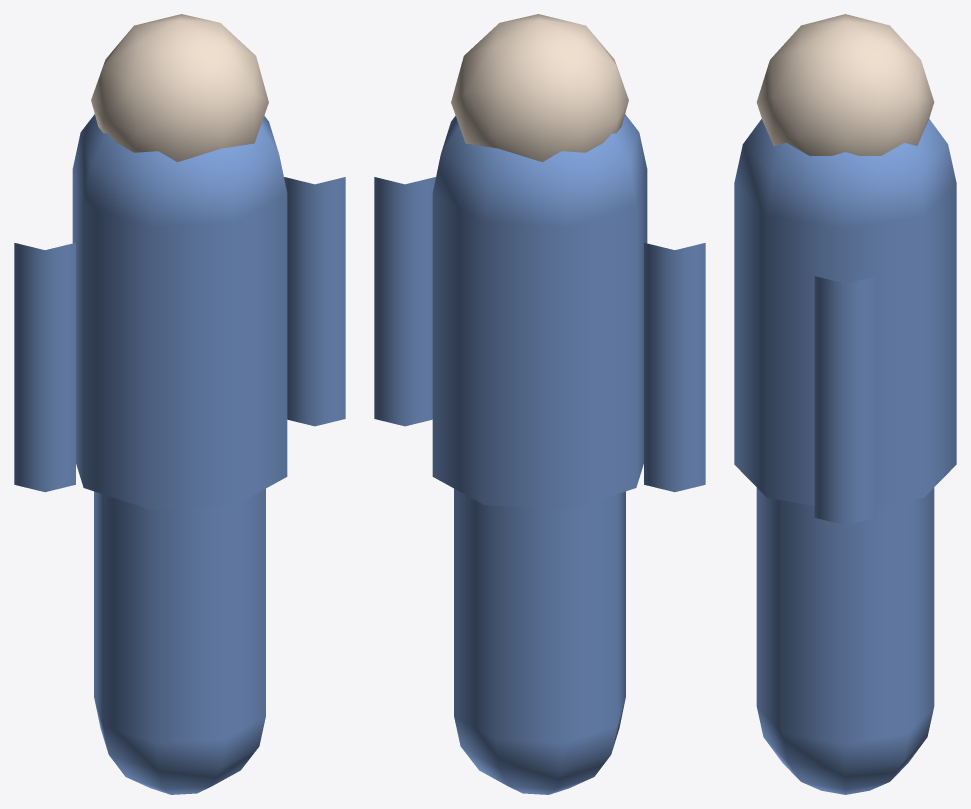
Rendered from player_character.glb.
3 views of the same model, side by side, from view 1: azimuth 30°, elevation 25°; view 2: azimuth 150°, elevation 25°; view 3: azimuth 270°, elevation 25° (orthographic).
Parts seen in each view (by area): view 1: PlayerCharacter; view 2: PlayerCharacter; view 3: PlayerCharacter.
Part boxes in pixels (x1=…): PlayerCharacter: x1=14, y1=14, x2=345, y2=794; PlayerCharacter: x1=374, y1=14, x2=705, y2=794; PlayerCharacter: x1=734, y1=14, x2=956, y2=794.
Bounding box in the file's own units: 0.86 × 1.9 × 0.5.
